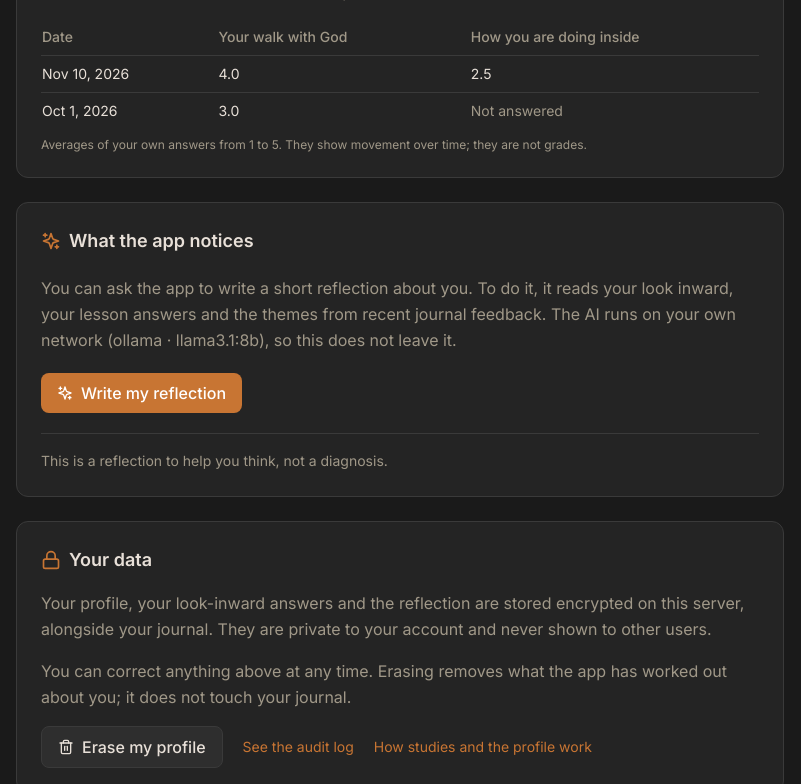
Scenario: ProfilePage profile view › says where the AI runs before writing, and treats "not enough yet" as guidance
(page scrolled)
Expected: the text "The AI runs on your own network (ollama · llama3.1:8b)" is shown, [41, 304, 736, 350]
Expected: the text "This is a reflection to help you think, not a diagnosis." is shown, [41, 432, 759, 472]
Click the button "Write my reflection".
click(142, 392)  # box [41, 372, 242, 412]
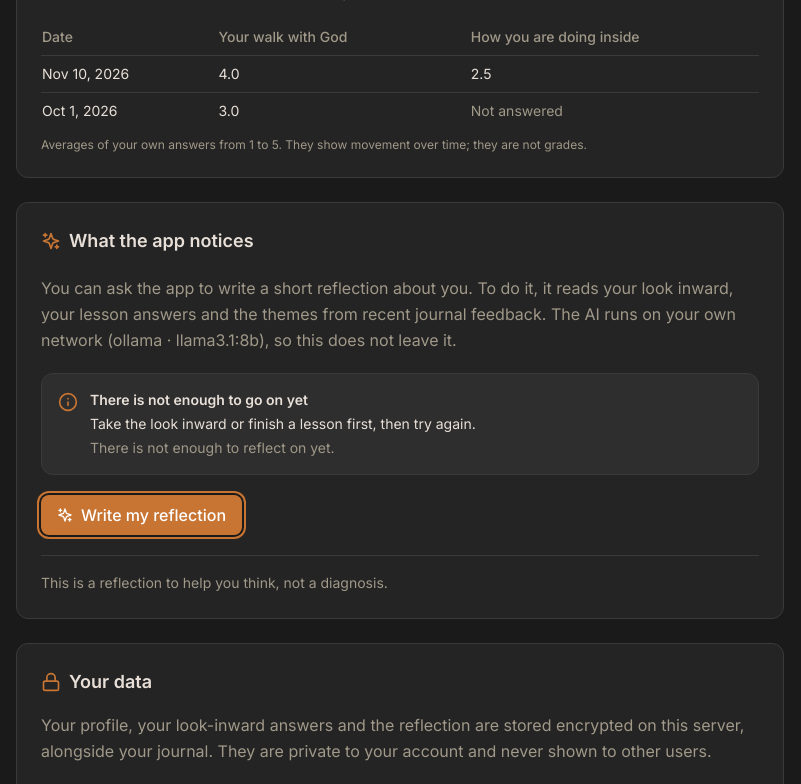
Expected: the button "Write my reflection" is shown, [41, 494, 242, 534]
Expected: the text "Take the look inward or finish a lesson first, then try again." is shown, [90, 414, 476, 432]
Expected: the text "There is not enough to go on yet" is shown, [90, 390, 308, 408]
